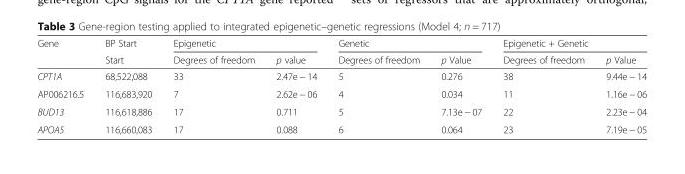table: (36, 37, 646, 134)
table column: (326, 37, 429, 134), (491, 37, 594, 134), (162, 37, 264, 134), (93, 37, 162, 134), (264, 37, 326, 134), (429, 37, 491, 134), (36, 37, 93, 134), (594, 37, 646, 134)
table column header: (36, 37, 646, 67)
table row: (36, 84, 646, 102), (36, 102, 646, 120), (36, 67, 646, 84), (36, 51, 646, 67), (36, 37, 646, 51), (36, 120, 646, 134)
table spanning cell: (326, 37, 491, 51), (162, 37, 326, 51), (491, 37, 646, 51), (93, 37, 162, 67), (36, 37, 93, 67)
